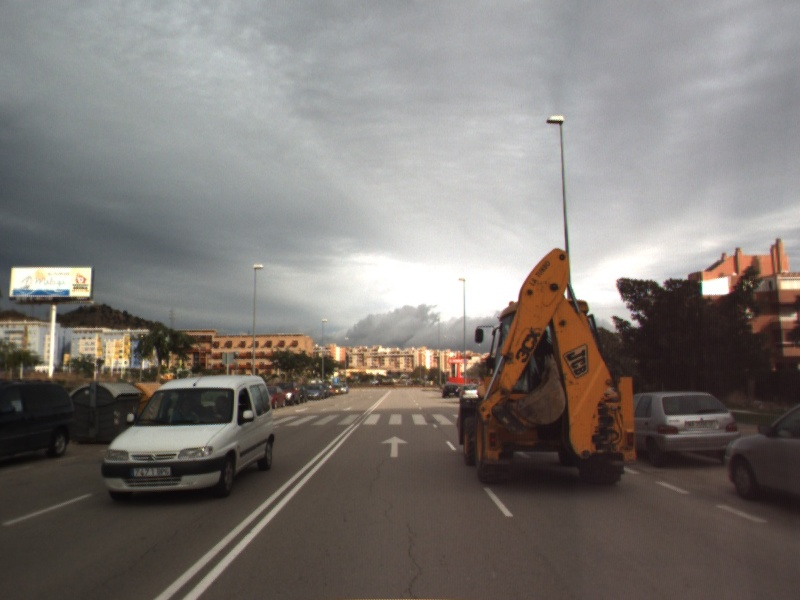STRAIGHT: (379, 434, 410, 459)
